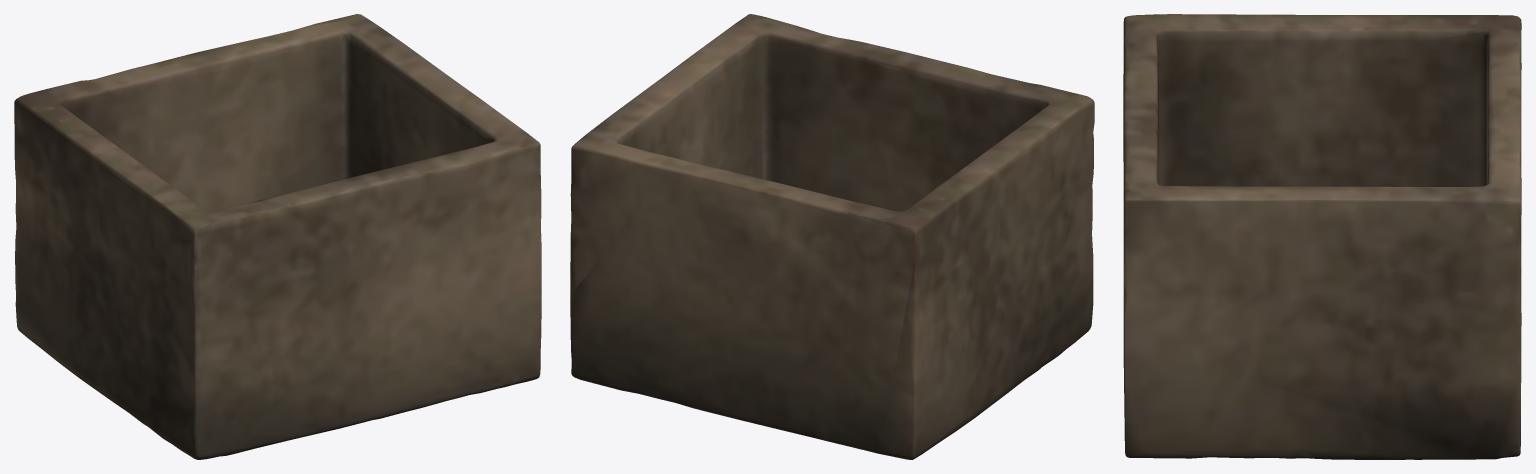
The model's file is sturdy-wood-planter-v001.glb.
The picture shows the model from 3 angles, left to right: view 1: azimuth 30°, elevation 25°; view 2: azimuth 150°, elevation 25°; view 3: azimuth 270°, elevation 25°; orthographic projection. The views are drawn at different scales.
Parts seen in each view (by area): view 1: sturdy-wood-planter; view 2: sturdy-wood-planter; view 3: sturdy-wood-planter.
Part boxes in pixels (<box>): sturdy-wood-planter: <box>14,14,541,459</box>; sturdy-wood-planter: <box>570,14,1094,459</box>; sturdy-wood-planter: <box>1123,14,1521,459</box>.
Bounding box in the file's own units: 0.5644 × 0.3696 × 0.5087.
Materials: 1 (1 with a texture image).
